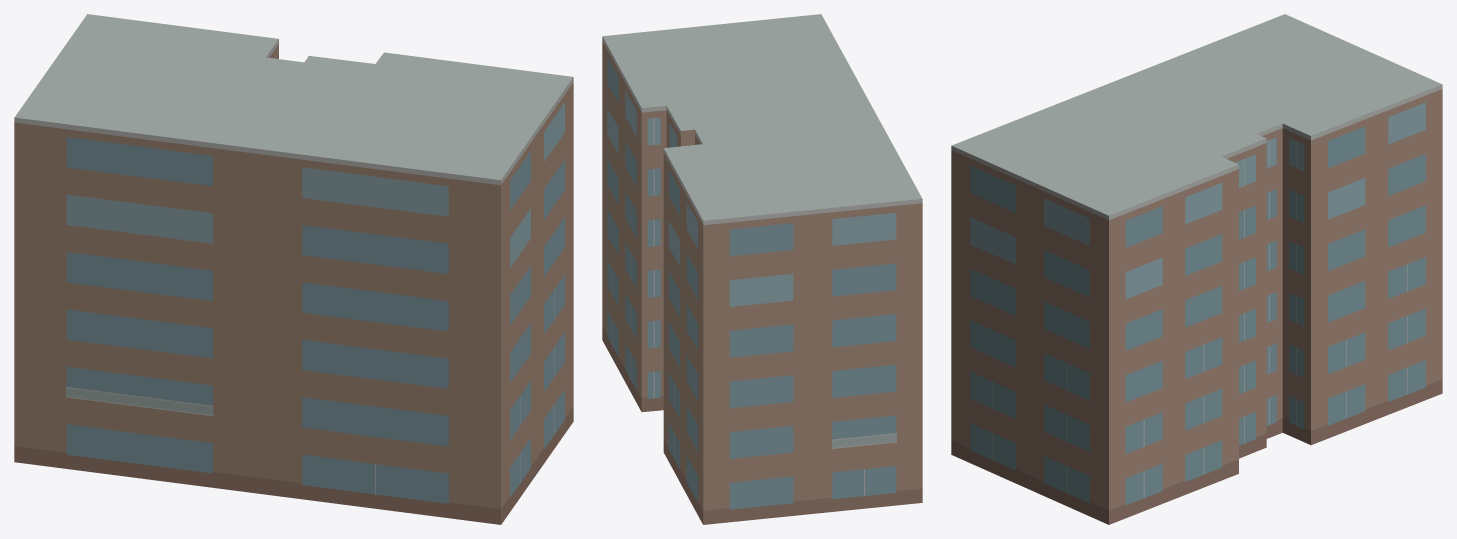
The model's file is survey-upis-33022023.glb.
3 renders of one model, left to right at view 1: azimuth 30°, elevation 25°; view 2: azimuth 150°, elevation 25°; view 3: azimuth 270°, elevation 25°, orthographic. The views are drawn at different scales.
Visible parts, largest first — view 1: survey-upis-33022023.tmp; view 2: survey-upis-33022023.tmp; view 3: survey-upis-33022023.tmp.
Part boxes in pixels (x1,y1,x2,y2): survey-upis-33022023.tmp: (14,14,573,524); survey-upis-33022023.tmp: (602,14,922,524); survey-upis-33022023.tmp: (951,14,1442,524).
Size of the model in its own units: 23.53 by 16.8 by 24.2.
